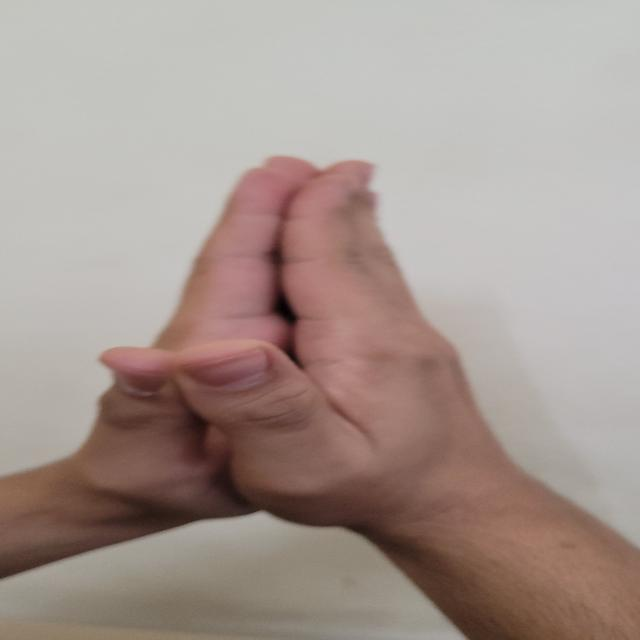Thank You: (54, 120, 514, 542)
